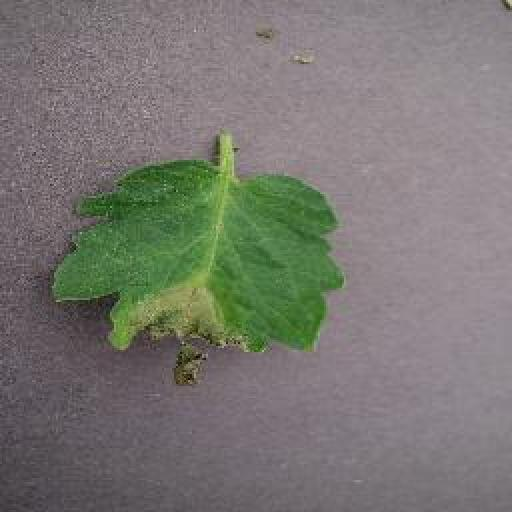Late Blight: (52, 157, 345, 391)
